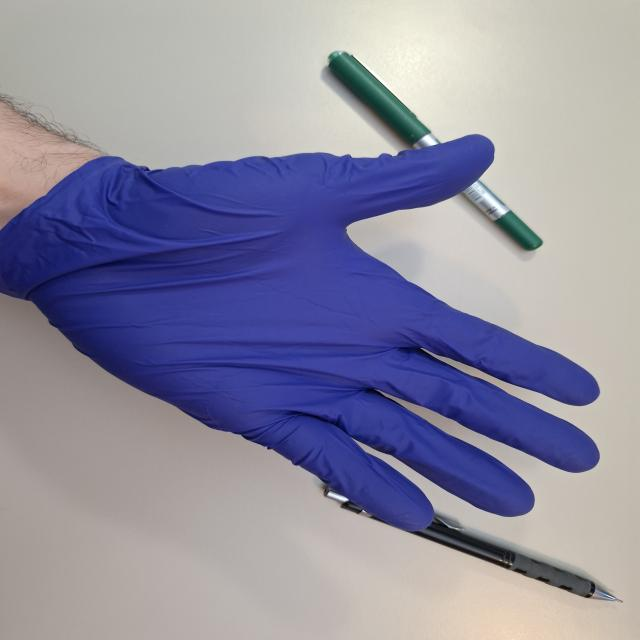glove_on: (0, 130, 605, 534)
